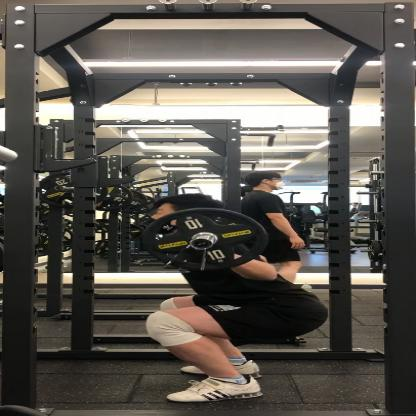Barbell: (137, 203, 277, 282)
